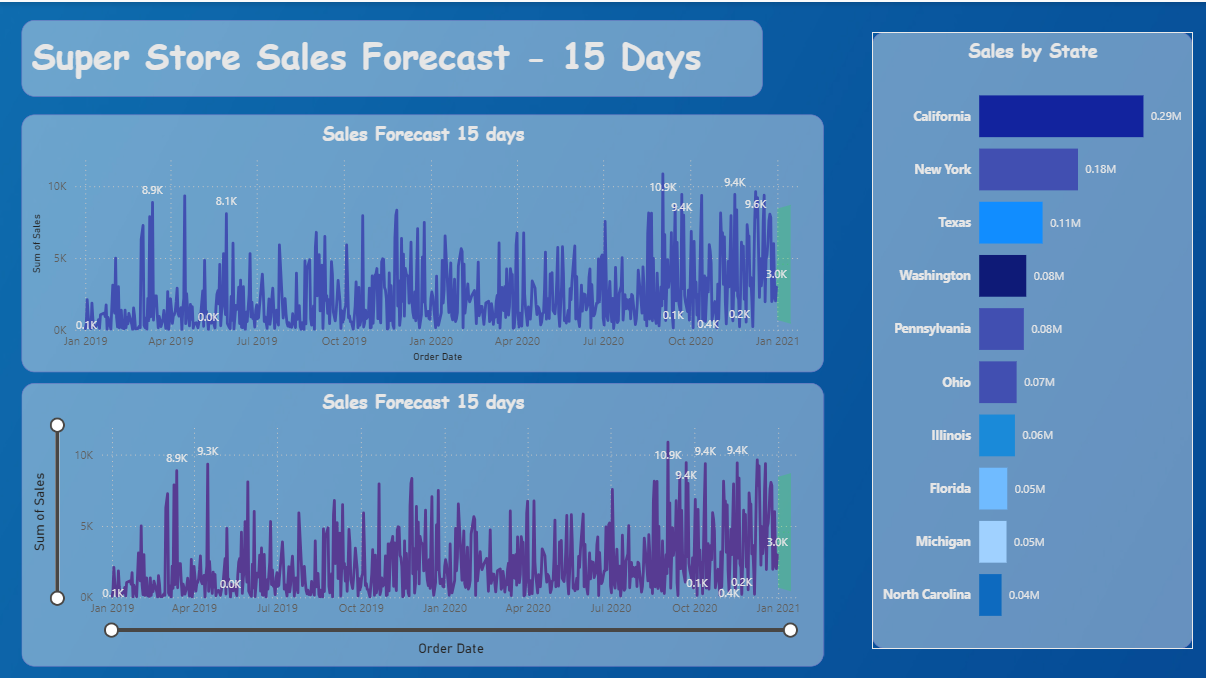

Layout of this report page (visuals, bound fields, positions):
{"tool":"powerbi","page":{"name":"Forecasting","canvas":[1280,720],"ordinal":1},"visuals":[{"type":"lineChart","title":"Sales Forecast 15 days","fields":{"Y":["Sum(SuperStore_Sales_Dataset.Sales)"],"Category":["SuperStore_Sales_Dataset.Order Date"]},"box":[23.9,119.3,851,273.6],"z":0},{"type":"lineChart","title":"Sales Forecast 15 days","fields":{"Y":["Sum(SuperStore_Sales_Dataset.Sales)"],"Category":["SuperStore_Sales_Dataset.Order Date"]},"box":[23.9,404,851,300.6],"z":1000},{"type":"clusteredBarChart","title":"Sales by State","fields":{"Category":["SuperStore_Sales_Dataset.State"],"Y":["Sum(SuperStore_Sales_Dataset.Sales)"]},"box":[926,32.1,340.2,653.9],"z":2000},{"type":"textbox","box":[24.6,18.9,786.1,81.3],"z":3000}]}

Visuals, with their boxes in screenshot pixels (x1, y1, x2, y2), scaled from the page's 1280x720 canvas onto the 1206x678 screenshot:
"Sales Forecast 15 days" lineChart: pyautogui.locateOnScreen(23, 112, 824, 370)
"Sales Forecast 15 days" lineChart: pyautogui.locateOnScreen(23, 380, 824, 663)
"Sales by State" clusteredBarChart: pyautogui.locateOnScreen(872, 30, 1193, 646)
textbox: pyautogui.locateOnScreen(23, 18, 764, 94)
